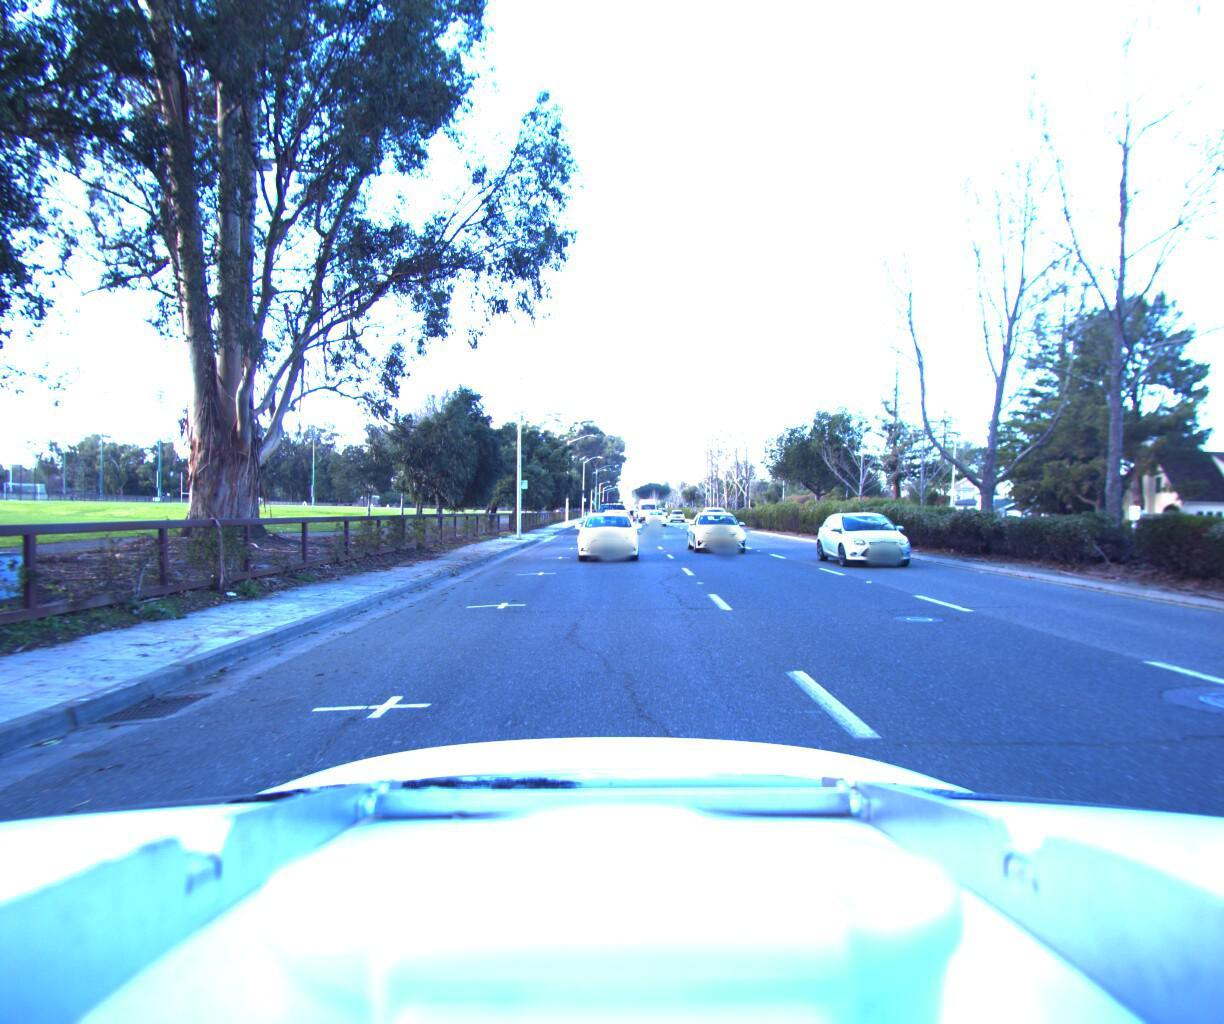car: (824, 507, 937, 573), (575, 505, 642, 559), (688, 507, 752, 554), (599, 504, 637, 539), (597, 492, 629, 531), (647, 508, 671, 526)
